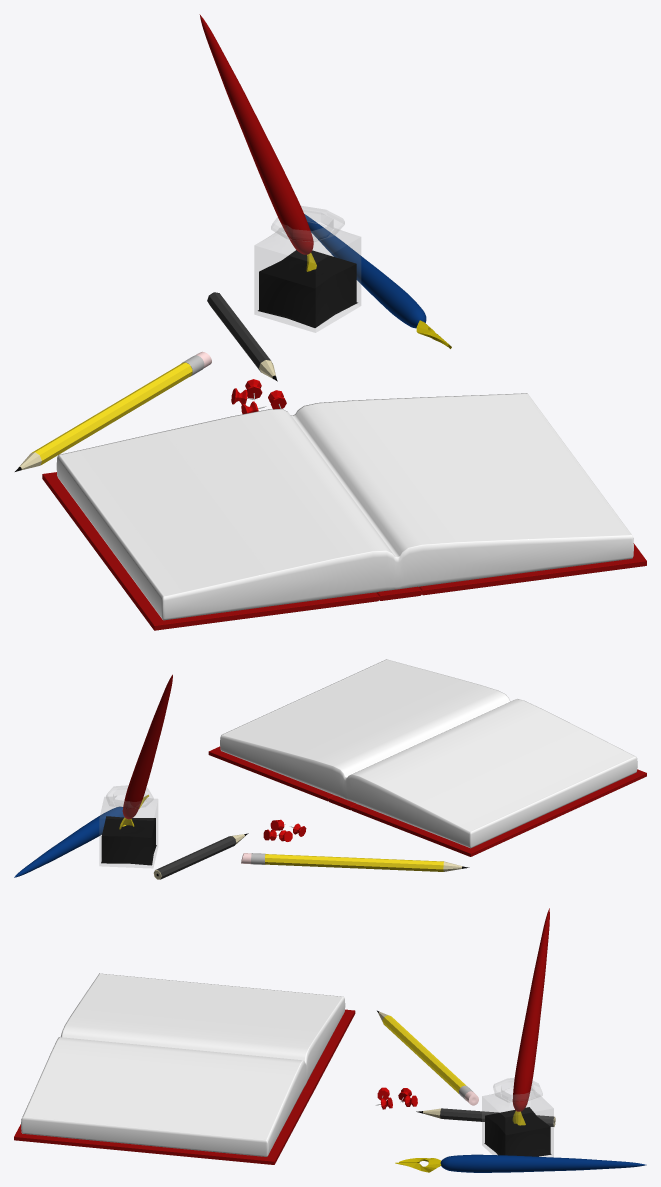
The model's file is writing.fbx.
3 views of the same model, one above another, from view 1: azimuth 30°, elevation 25°; view 2: azimuth 150°, elevation 25°; view 3: azimuth 270°, elevation 25° (orthographic). The views are drawn at different scales.
Parts seen in each view (by area): view 1: hb2pencil_lambert6_0; view 2: hb2pencil_lambert6_0; view 3: hb2pencil_lambert6_0.
Boxes of the visible parts, box(x1,y1,x2,y2) form: hb2pencil_lambert6_0: box(15, 14, 646, 630); hb2pencil_lambert6_0: box(14, 659, 646, 879); hb2pencil_lambert6_0: box(14, 908, 646, 1172).
Size of the model in its own units: 2244 by 1225 by 3273.
